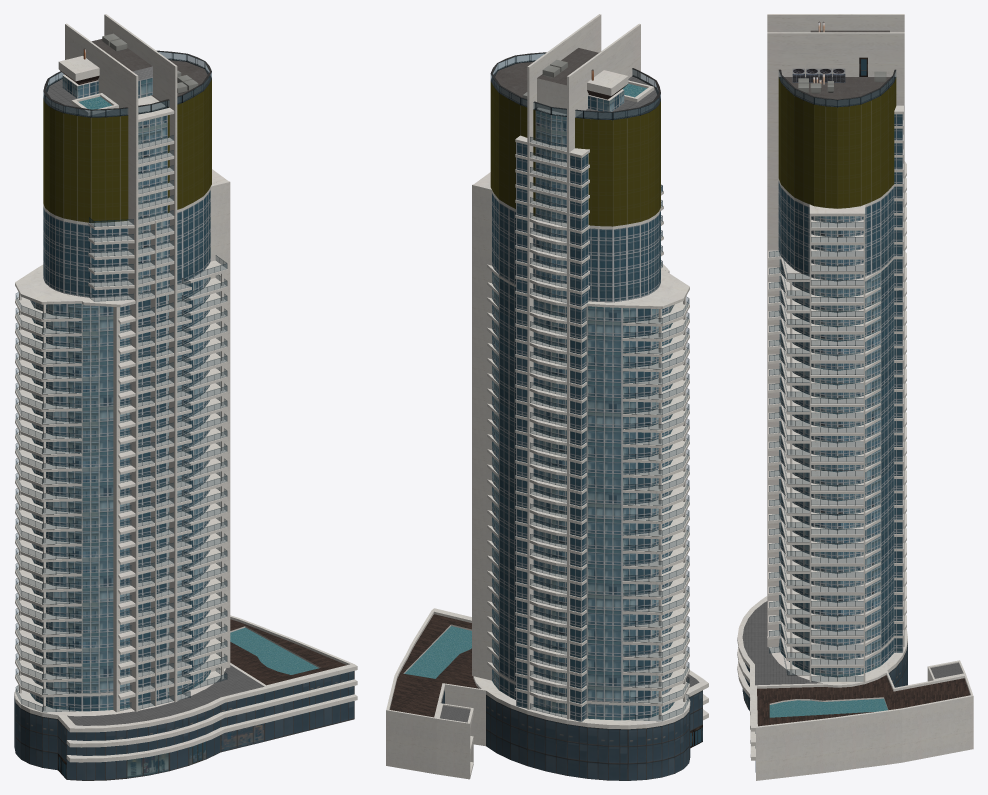
File: pivotal_point.glb
The picture shows the model from 3 angles, left to right: view 1: azimuth 30°, elevation 25°; view 2: azimuth 150°, elevation 25°; view 3: azimuth 270°, elevation 25°; orthographic projection. The views are drawn at different scales.
Visible parts, largest first — view 1: skfb_offset; view 2: skfb_offset; view 3: skfb_offset.
Part boxes in pixels (x1,y1,x2,y2): skfb_offset: (14,14,357,780); skfb_offset: (386,14,708,780); skfb_offset: (737,14,973,780).
Bounding box in the file's own units: 6099 × 13800 × 4428.
1 material, 1 textured.
